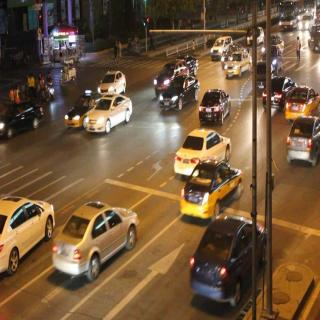Car: (53, 199, 141, 279), (190, 218, 260, 305), (1, 194, 55, 277), (182, 156, 241, 218), (179, 124, 232, 173), (88, 95, 131, 136), (288, 112, 320, 167), (0, 102, 46, 139), (162, 74, 200, 113), (198, 89, 230, 127), (287, 82, 320, 118), (66, 91, 98, 127), (265, 73, 294, 109), (98, 67, 126, 94), (226, 49, 249, 78), (252, 62, 272, 92), (211, 36, 227, 58)
